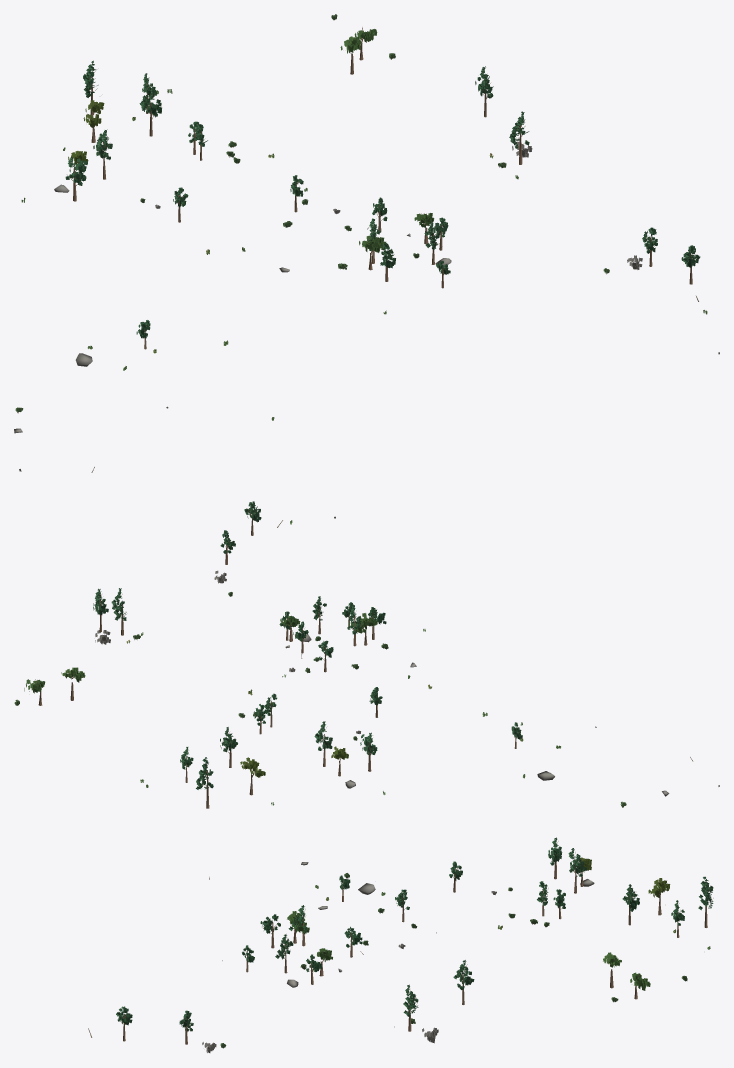
Rendered from arch_land_scatter_c19_20.glb.
3 renders of one model, top to bottom at view 1: azimuth 30°, elevation 25°; view 2: azimuth 150°, elevation 25°; view 3: azimuth 270°, elevation 25°, orthographic. The views are drawn at different scales.
Visible parts, largest first — view 1: arch_land_scatter_c19_20; view 2: arch_land_scatter_c19_20; view 3: arch_land_scatter_c19_20.
Boxes of the visible parts, x1,y1,x2,y2 form: arch_land_scatter_c19_20: [14, 14, 719, 472]; arch_land_scatter_c19_20: [14, 501, 719, 808]; arch_land_scatter_c19_20: [88, 837, 713, 1052].
Bounding box in the file's own units: 153 × 41.13 × 170.
